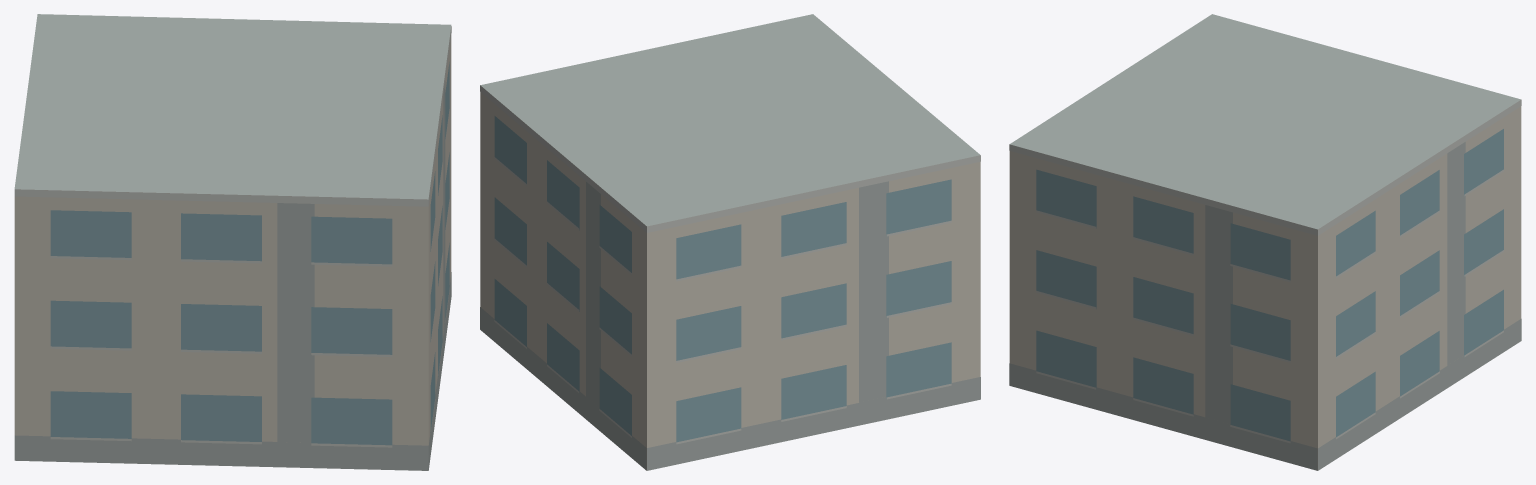
The model's file is survey-upis-32739578.glb.
3 renders of one model, left to right at view 1: azimuth 30°, elevation 25°; view 2: azimuth 150°, elevation 25°; view 3: azimuth 270°, elevation 25°, orthographic. The views are drawn at different scales.
Visible parts, largest first — view 1: survey-upis-32739578.tmp; view 2: survey-upis-32739578.tmp; view 3: survey-upis-32739578.tmp.
Boxes of the visible parts, x1,y1,x2,y2 form: survey-upis-32739578.tmp: (14,14,451,470); survey-upis-32739578.tmp: (480,14,980,470); survey-upis-32739578.tmp: (1009,14,1521,470).
Bounding box in the file's own units: 17.52 × 9.15 × 17.6.
